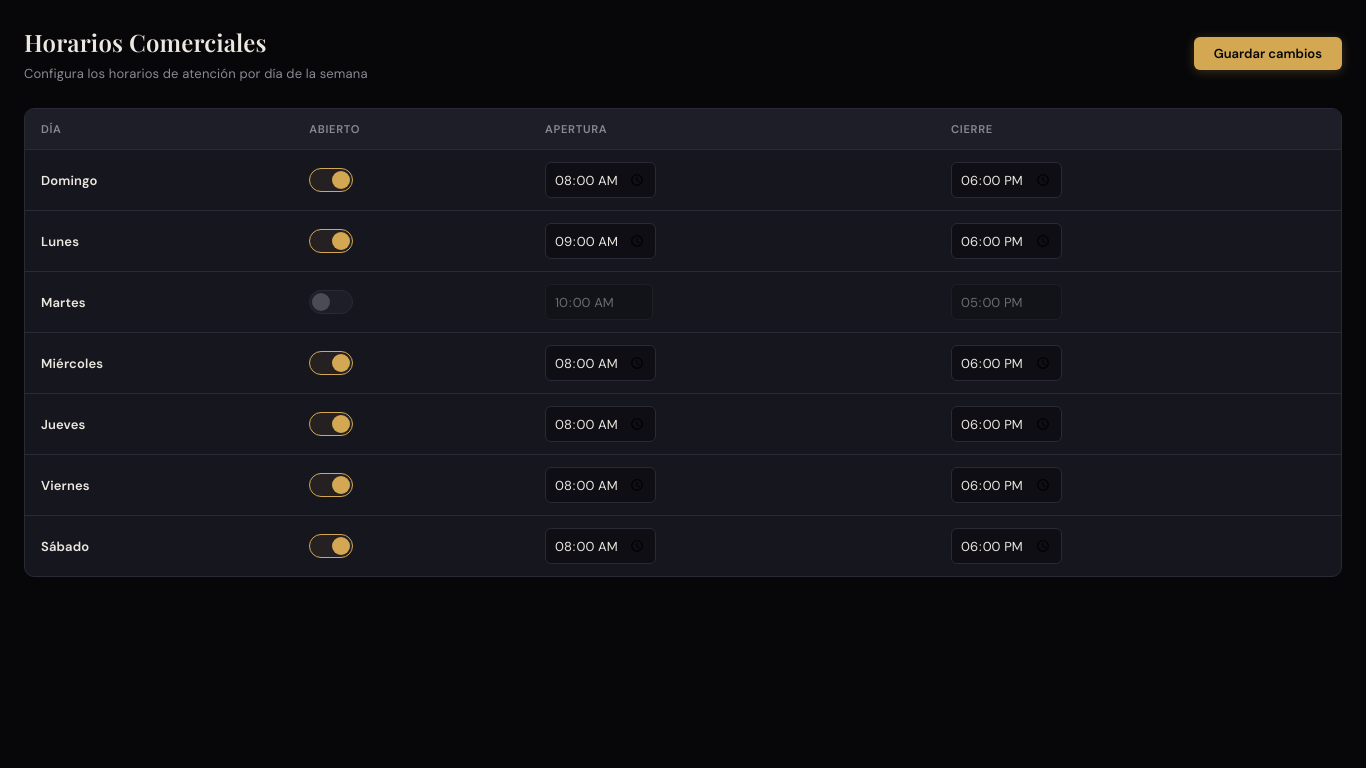
Test case: HorariosPage — contrato responsive y comportamiento (R5) › Guardar cambios hace PUT con los 7 días normalizados y muestra confirmación
expect the text "Domingo" is shown: met, box [25, 150, 293, 211]
Click the button "Guardar cambios" at (1268, 54), box [1194, 37, 1342, 70]
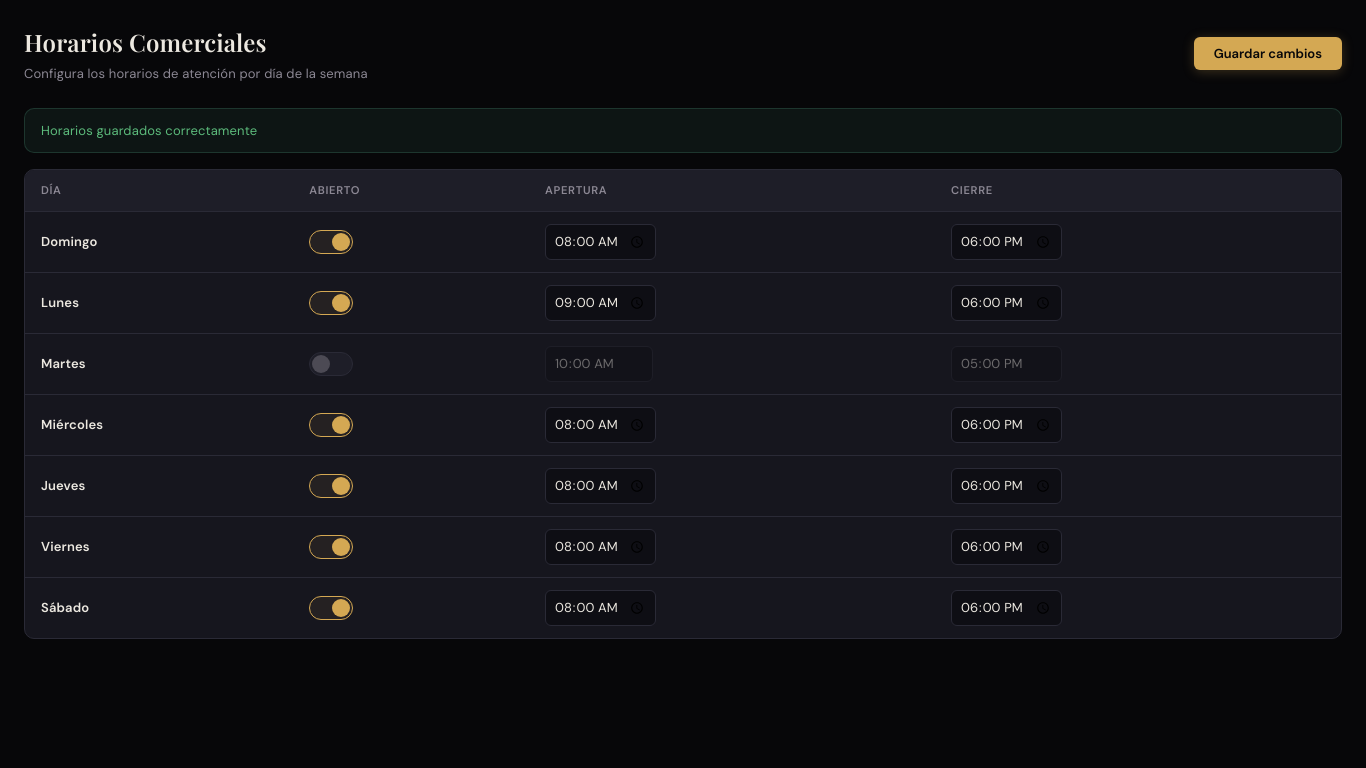
expect the text "Horarios guardados correctamente" is shown: met, box [24, 108, 1342, 153]
